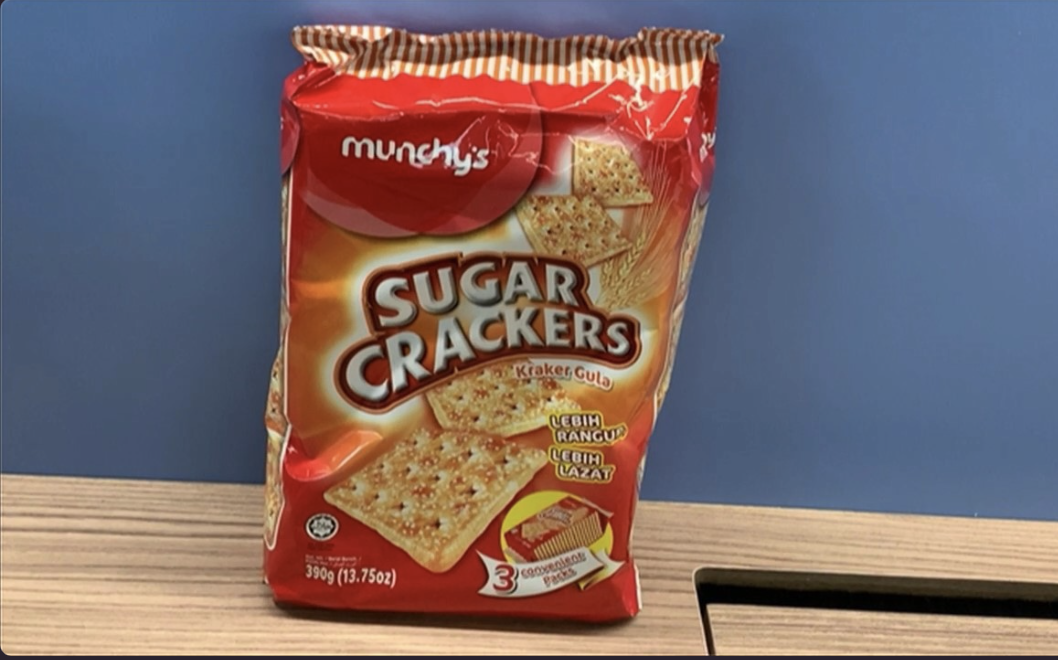crackers_300g-399g: (297, 111, 647, 602)
